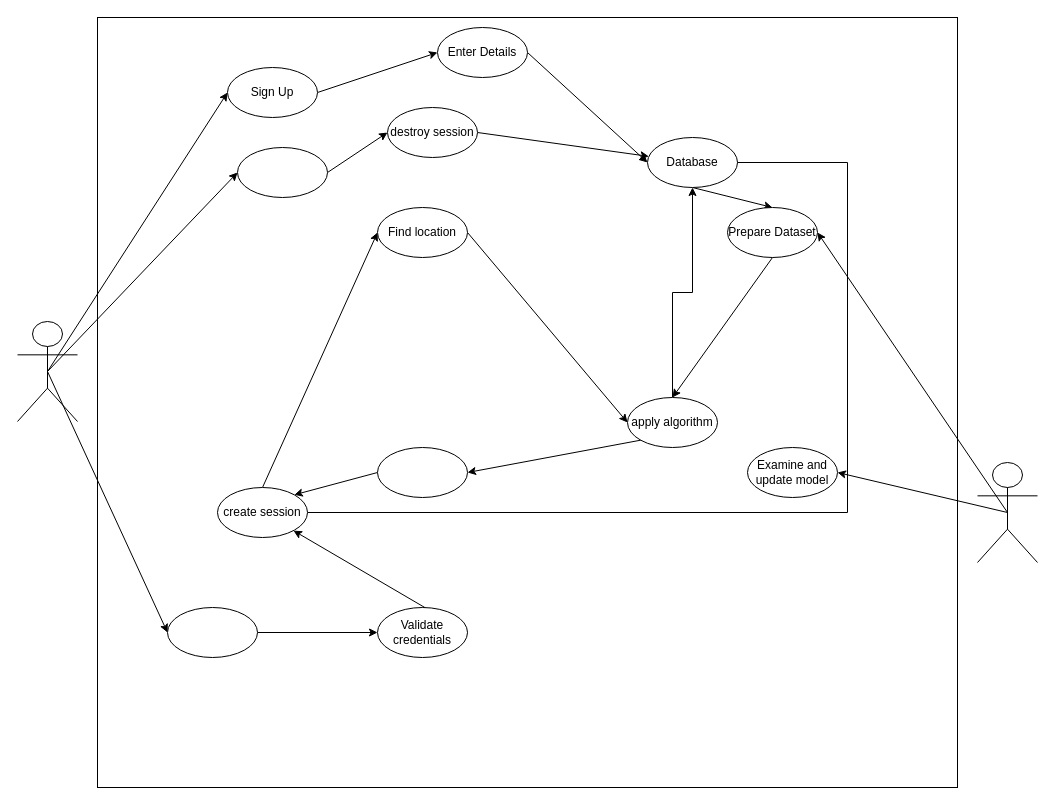
Image size: 1055x805. Some labels were removed from this diagram. Here are the shapes that lost their labels. From the top down, the centre of each, then its label:
At (282,172): "Log out".
At (47,371): "User".
At (422,472): "Result".
At (1007,512): "Developer".
At (212,632): "Log in".
